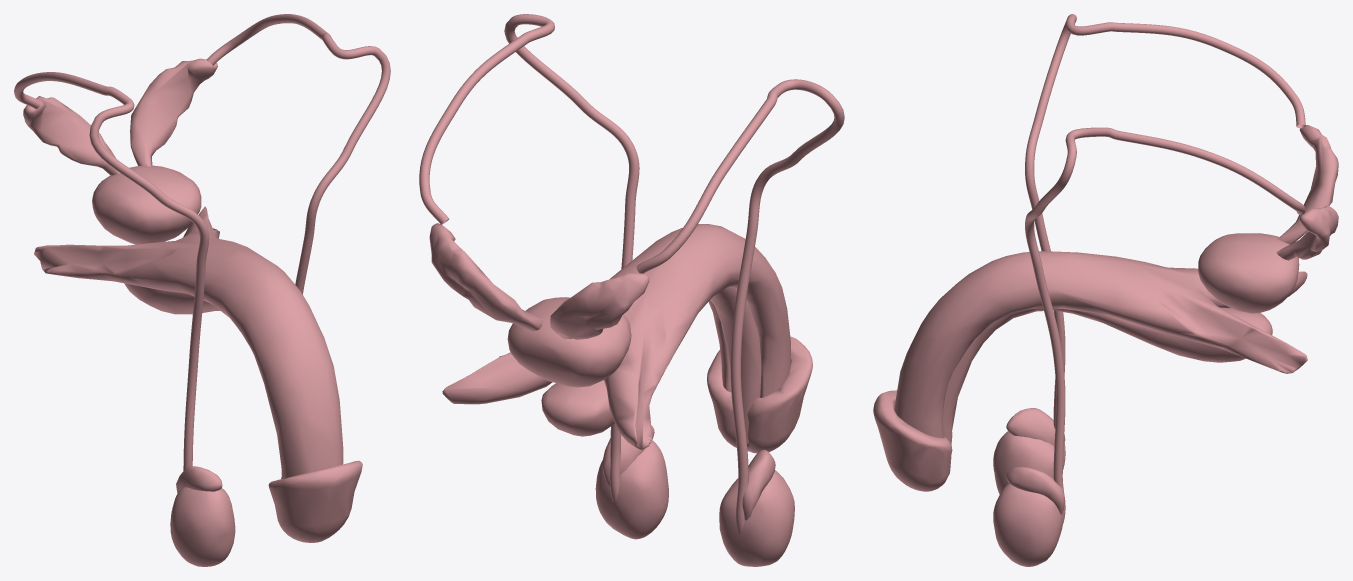
The model's file is reproductive.glb.
The picture shows the model from 3 angles, left to right: view 1: azimuth 30°, elevation 25°; view 2: azimuth 150°, elevation 25°; view 3: azimuth 270°, elevation 25°; orthographic projection. The views are drawn at different scales.
Visible parts, largest first — view 1: corpus-cavernosum-of-penis, prostate, ductus-deferens-right, glans-penis, seminal-gland-left, ductus-deferens-left, testis-right, seminal-gland-right, corpus-spongiosum-of-penis, epididymis-right; view 2: corpus-cavernosum-of-penis, ductus-deferens-right, ductus-deferens-left, prostate, corpus-spongiosum-of-penis, glans-penis, testis-right, testis-left, seminal-gland-left, seminal-gland-right, epididymis-right, epididymis-left; view 3: corpus-cavernosum-of-penis, prostate, ductus-deferens-left, ductus-deferens-right, corpus-spongiosum-of-penis, glans-penis, testis-left, seminal-gland-right, testis-right, seminal-gland-left, epididymis-left, epididymis-right.
Part boxes in pixels (bbox=[...]): corpus-cavernosum-of-penis: bbox=[34, 206, 343, 479]; prostate: bbox=[92, 165, 201, 244]; ductus-deferens-right: bbox=[14, 72, 209, 470]; glans-penis: bbox=[268, 460, 362, 542]; seminal-gland-left: bbox=[130, 58, 217, 166]; ductus-deferens-left: bbox=[206, 14, 390, 294]; testis-right: bbox=[170, 487, 235, 566]; seminal-gland-right: bbox=[23, 96, 119, 175]; corpus-spongiosum-of-penis: bbox=[124, 283, 220, 314]; epididymis-right: bbox=[176, 466, 222, 493]; corpus-cavernosum-of-penis: bbox=[442, 224, 790, 449]; ductus-deferens-right: bbox=[636, 79, 844, 533]; ductus-deferens-left: bbox=[419, 14, 639, 503]; prostate: bbox=[507, 297, 631, 387]; corpus-spongiosum-of-penis: bbox=[541, 287, 761, 447]; glans-penis: bbox=[707, 336, 812, 453]; testis-right: bbox=[719, 470, 794, 566]; testis-left: bbox=[595, 440, 668, 539]; seminal-gland-left: bbox=[429, 223, 543, 331]; seminal-gland-right: bbox=[550, 272, 649, 339]; epididymis-right: bbox=[742, 449, 775, 520]; epididymis-left: bbox=[602, 425, 654, 486]; corpus-cavernosum-of-penis: bbox=[894, 251, 1307, 438]; prostate: bbox=[1198, 233, 1299, 313]; ductus-deferens-left: bbox=[1025, 127, 1305, 524]; ductus-deferens-right: bbox=[1025, 14, 1305, 469]; corpus-spongiosum-of-penis: bbox=[942, 307, 1272, 474]; glans-penis: bbox=[873, 390, 952, 491]; testis-left: bbox=[993, 483, 1062, 566]; seminal-gland-right: bbox=[1279, 125, 1338, 244]; testis-right: bbox=[993, 431, 1063, 494]; seminal-gland-left: bbox=[1277, 206, 1338, 260]; epididymis-left: bbox=[1006, 467, 1065, 514]; epididymis-right: bbox=[1006, 408, 1065, 445].
Bounding box in the file's own units: 0.1123 × 0.1654 × 0.151.
